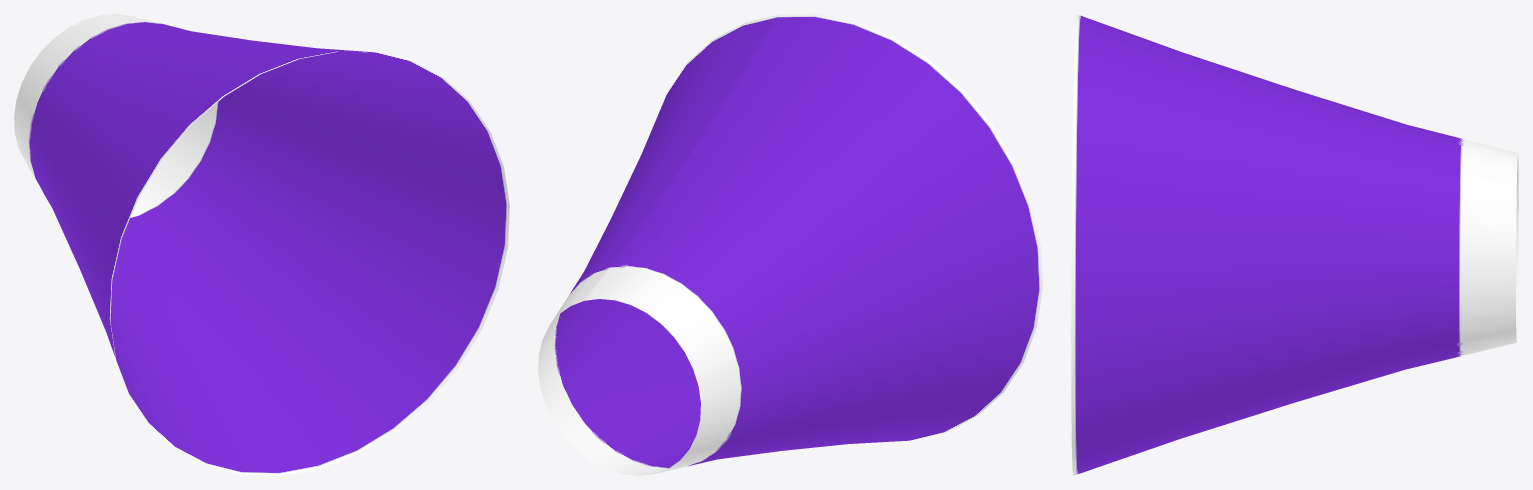
Rendered from twitch-portal.glb.
The picture shows the model from 3 angles, left to right: view 1: azimuth 30°, elevation 25°; view 2: azimuth 150°, elevation 25°; view 3: azimuth 270°, elevation 25°; orthographic projection.
Parts seen in each view (by area): view 1: portal_entrance; view 2: portal_entrance; view 3: portal_entrance.
Boxes of the visible parts, x1=… form: portal_entrance: x1=14, y1=14, x2=509, y2=475; portal_entrance: x1=538, y1=14, x2=1042, y2=475; portal_entrance: x1=1071, y1=14, x2=1518, y2=475.
Size of the model in its own units: 2.34 by 2.34 by 2.27.
Materials: 1 (1 with a texture image).
